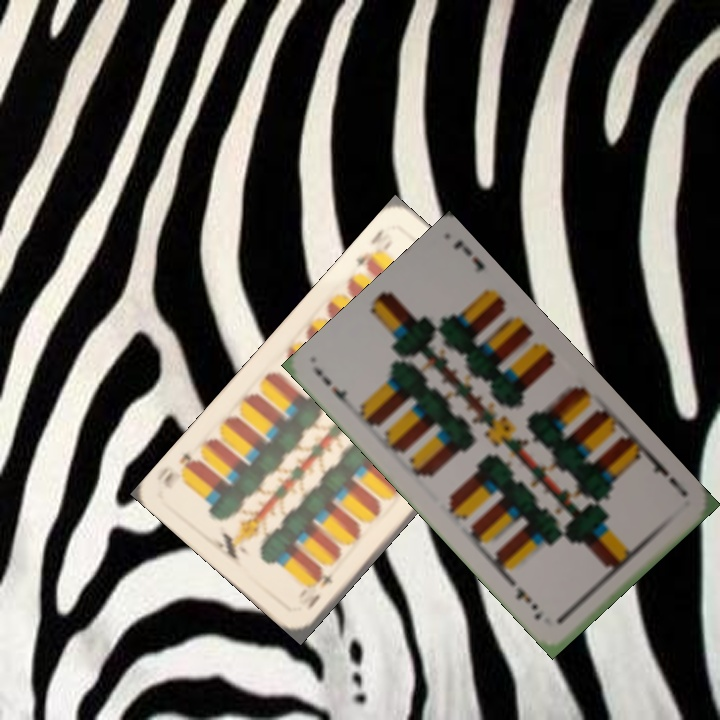E10: (351, 224, 391, 274), (302, 565, 341, 614)
E7: (645, 452, 691, 500), (311, 365, 355, 414)
